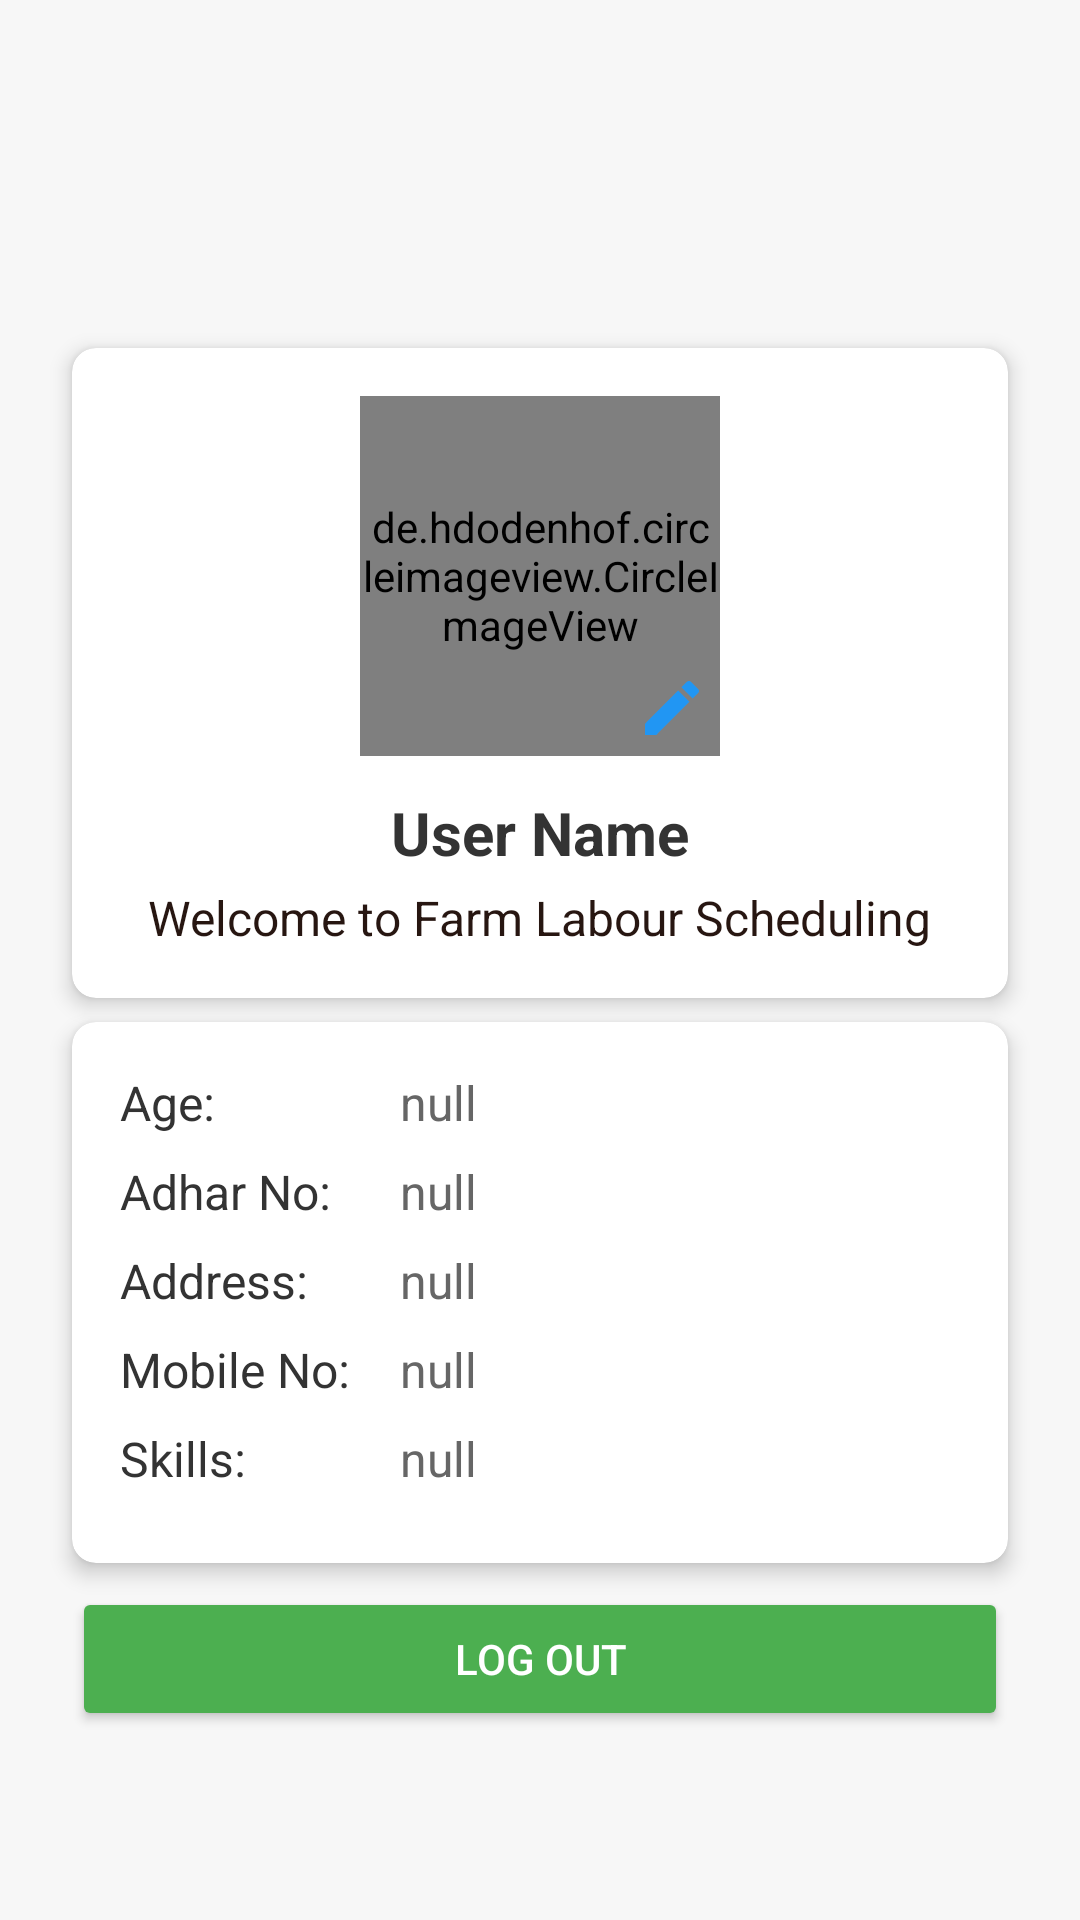

Icons on this 1080 × 1920 Android screen, each with its box as {"left": x1, "top": y1, "right": x2, "bottom": y2}:
Edit Photo: {"left": 645, "top": 681, "right": 699, "bottom": 735}
